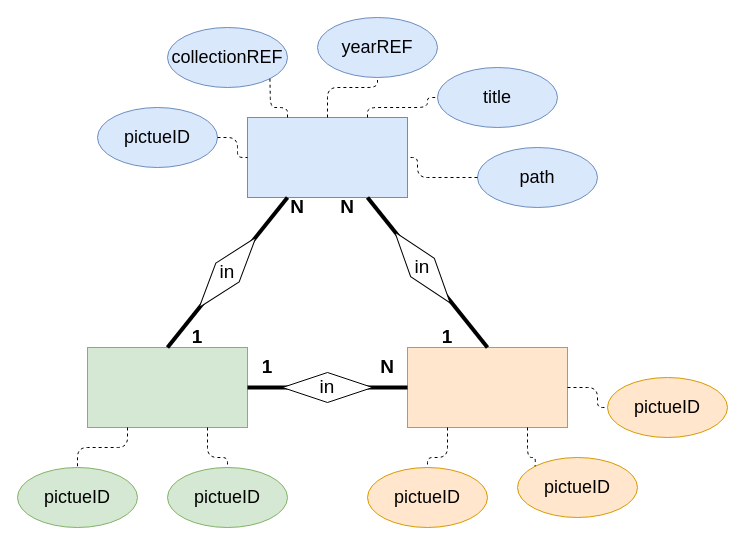
Image size: 745x545. Some labels were removed from this diagram. The box of each missing label's shape, as (x1, y1, x2, y2) in pixels:
Collection: (406, 346, 568, 428)
Picture: (246, 116, 408, 198)
Year: (86, 346, 248, 428)
